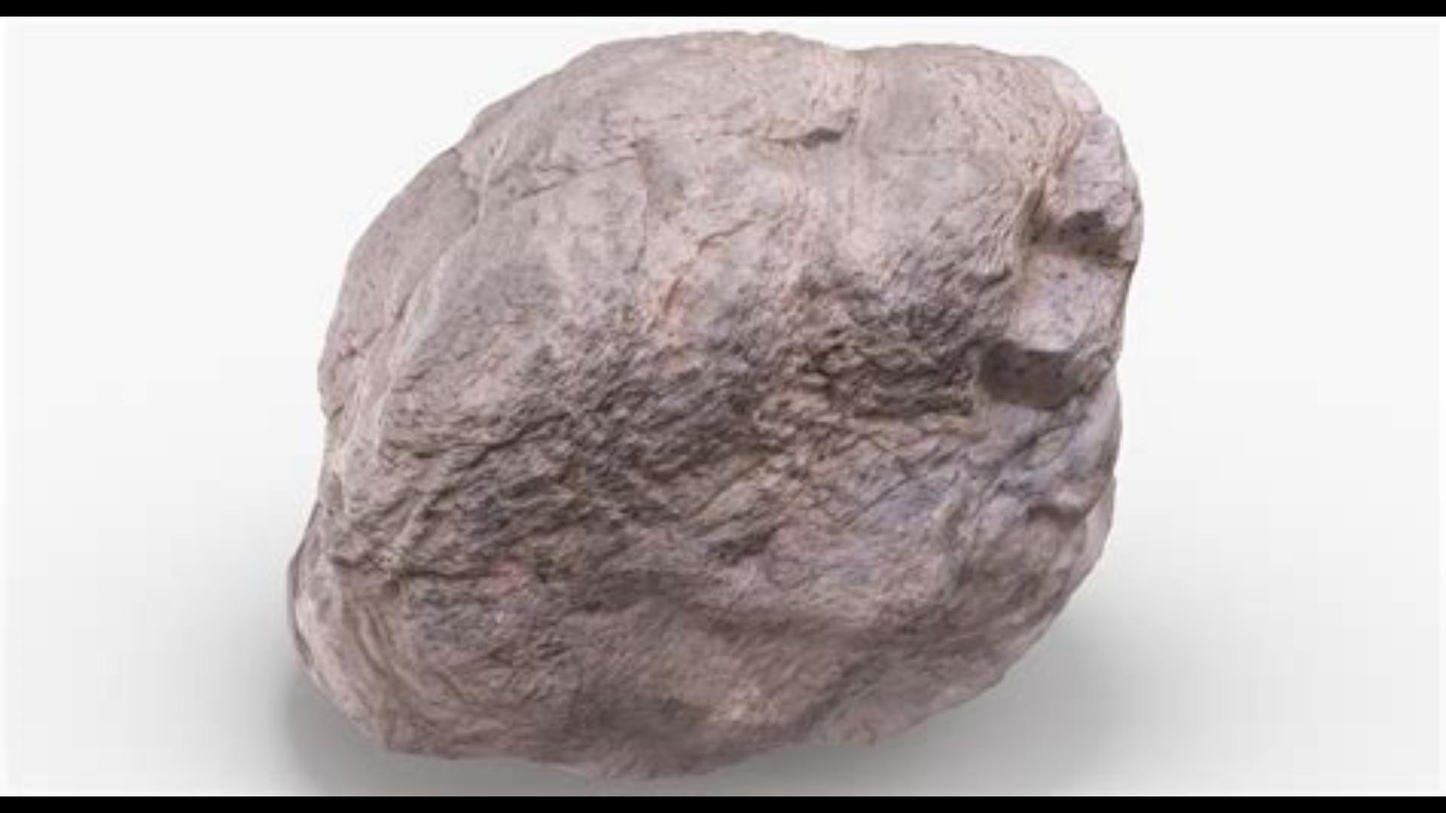rock: (290, 35, 1138, 773)
